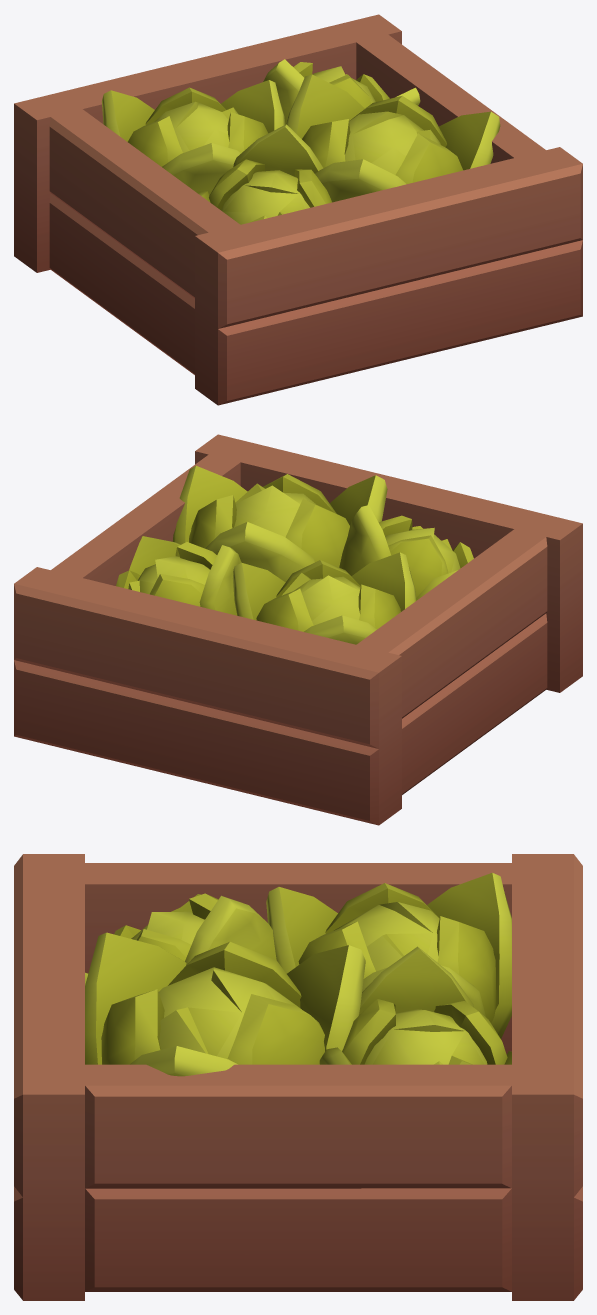
The model's file is crate_lettuce.glb.
3 views of the same model, one above another, from view 1: azimuth 30°, elevation 25°; view 2: azimuth 150°, elevation 25°; view 3: azimuth 270°, elevation 25° (orthographic). The views are drawn at different scales.
Visible parts, largest first — view 1: crate_lettuce; view 2: crate_lettuce; view 3: crate_lettuce.
Part boxes in pixels (box(x1,y1,x2,y2)): crate_lettuce: box(14, 14, 582, 405); crate_lettuce: box(14, 434, 582, 825); crate_lettuce: box(14, 854, 582, 1300).
Bounding box in the file's own units: 0.8416 × 0.42 × 0.8416.
1 material, 1 textured.
